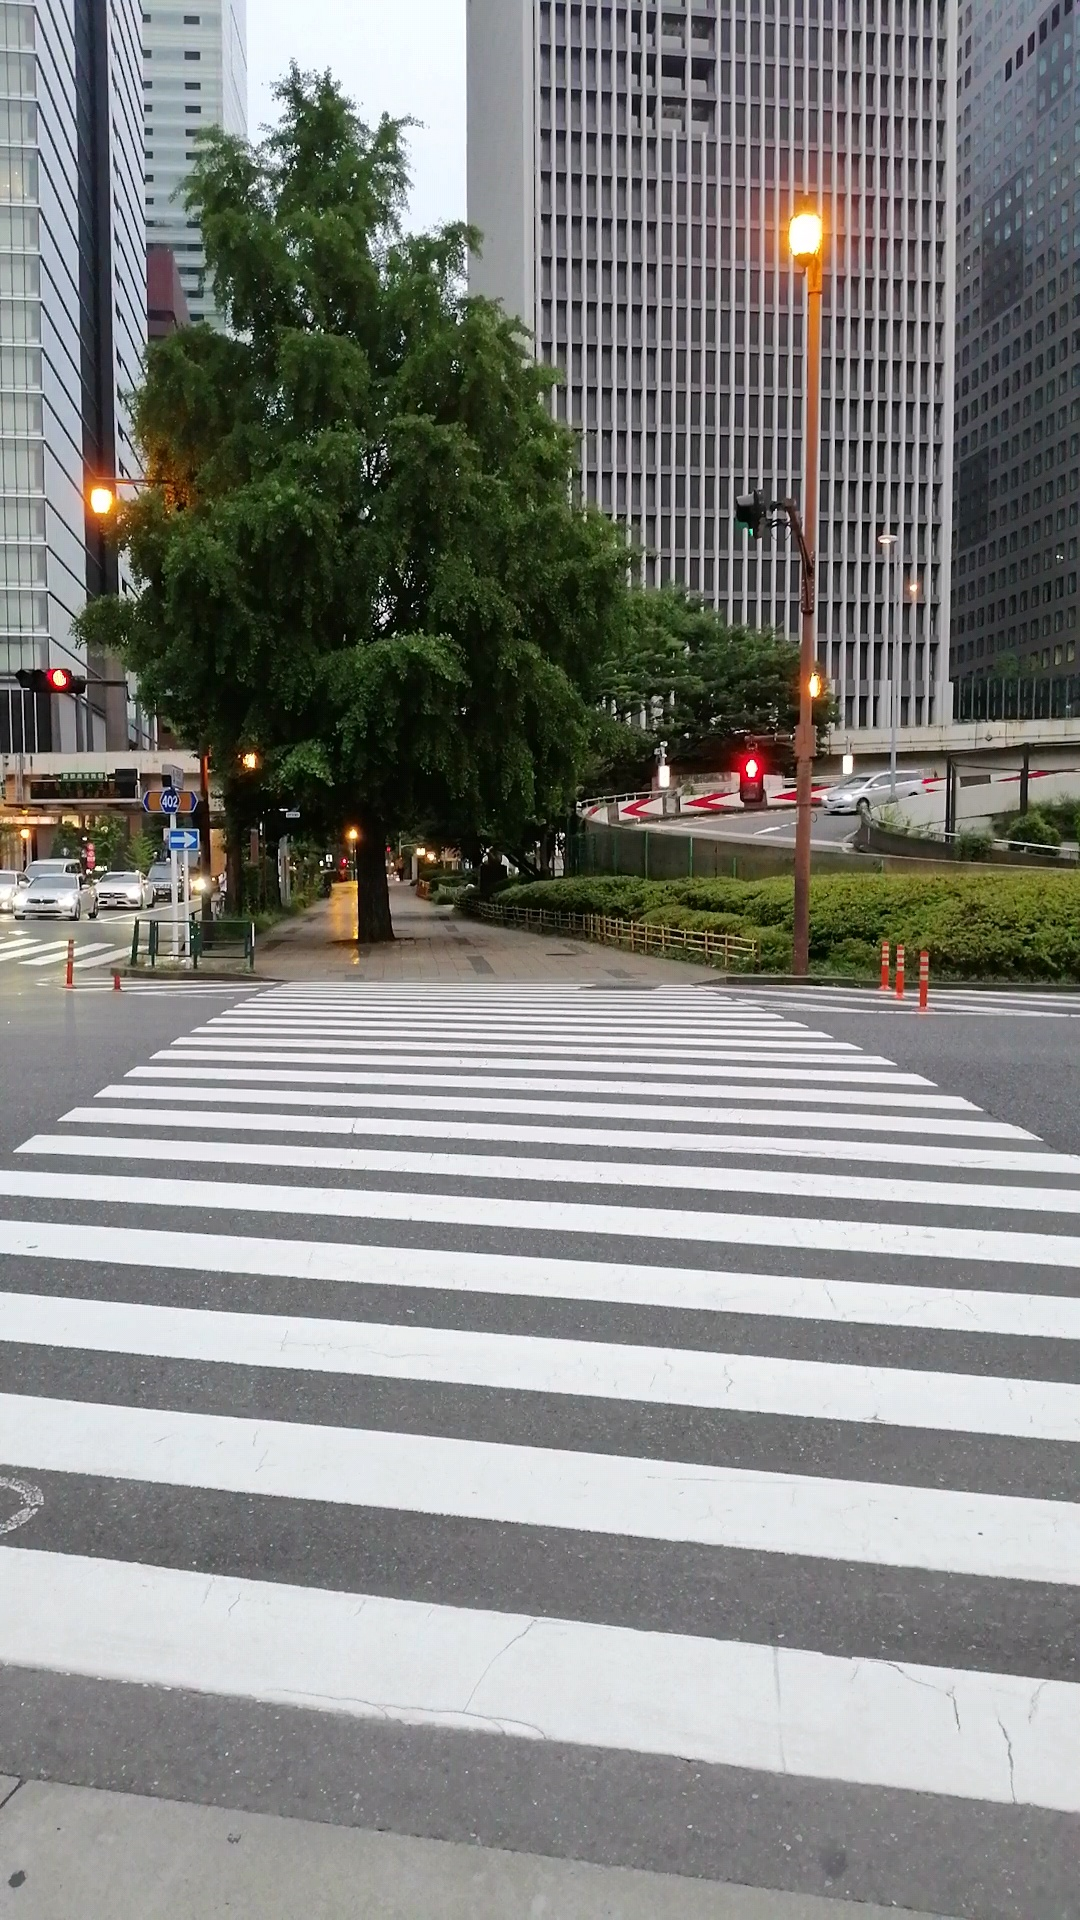red: (738, 754, 764, 804)
